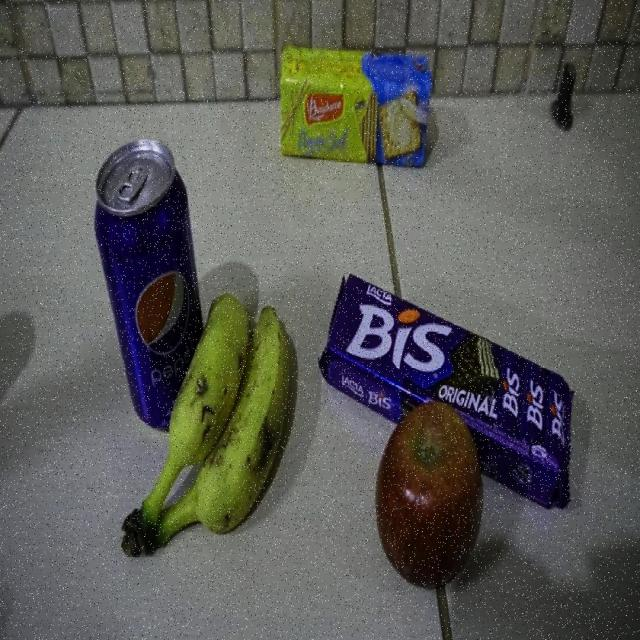Apple: (375, 404, 484, 586)
Banana: (121, 292, 291, 562)
Cracker: (280, 49, 432, 170)
SodaCan: (92, 139, 204, 432)
